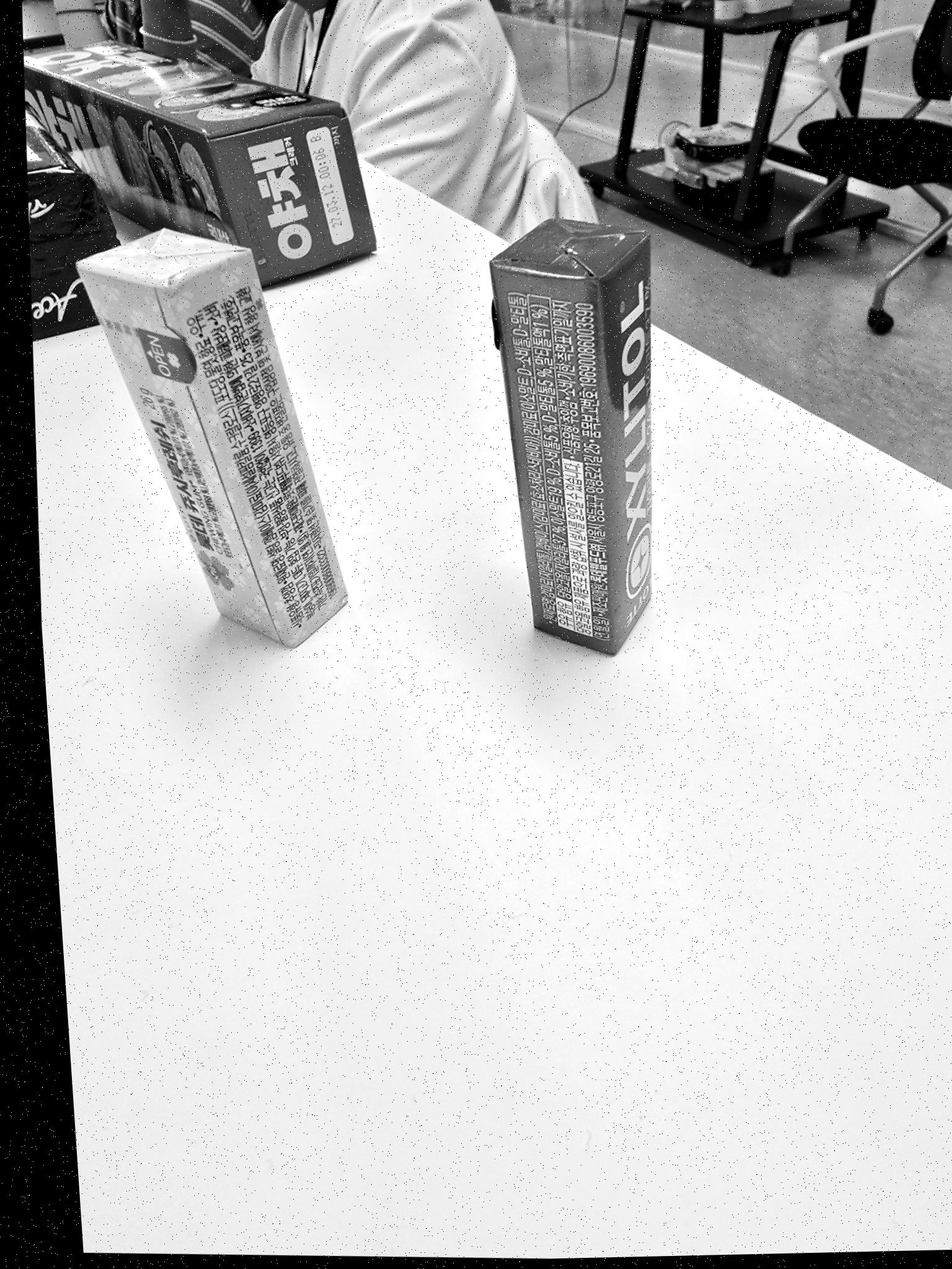gum_green: (490, 220, 653, 654)
gum_yellow: (78, 229, 347, 647)
